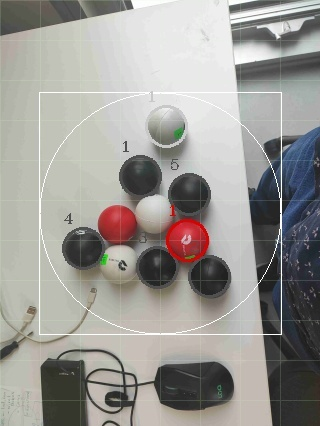Pelota blanca: (84, 347, 137, 413), (145, 103, 187, 147), (135, 193, 174, 235), (98, 244, 137, 283), (129, 382, 163, 425)
Pelota negra: (153, 361, 235, 411), (116, 153, 163, 198), (188, 254, 233, 299), (145, 103, 187, 150), (167, 172, 211, 216), (60, 225, 102, 270), (135, 246, 179, 288)
Pelota roja: (164, 217, 211, 264), (95, 204, 137, 243)
